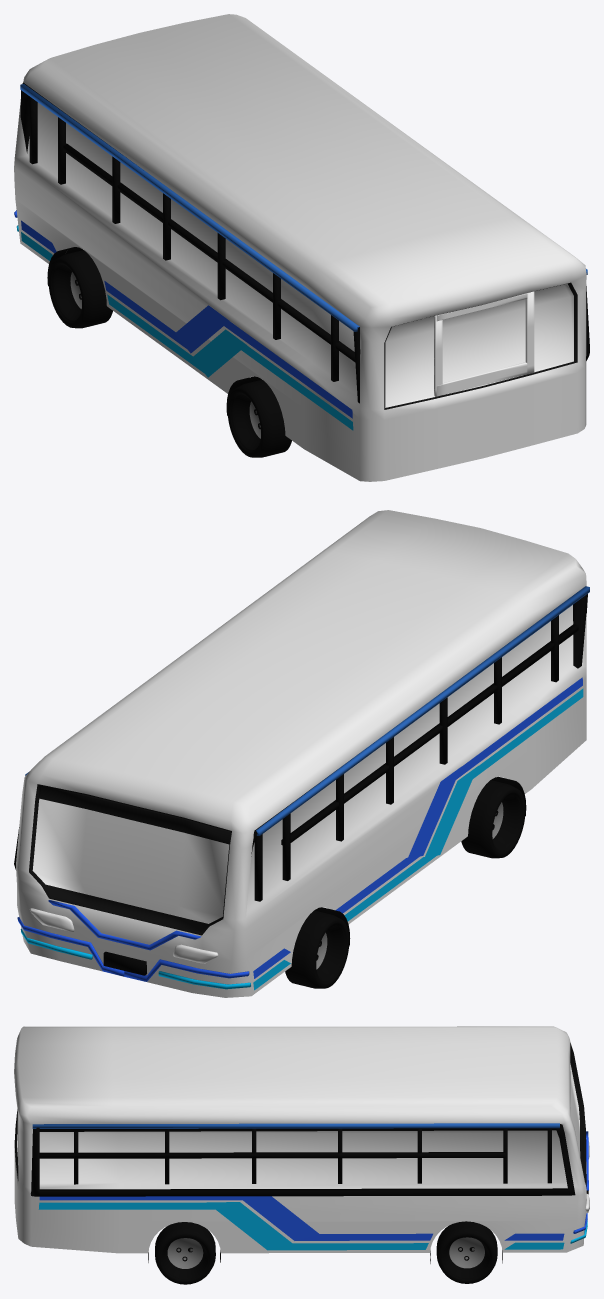
The model's file is tata1.fbx.
3 views of the same model, one above another, from view 1: azimuth 30°, elevation 25°; view 2: azimuth 150°, elevation 25°; view 3: azimuth 270°, elevation 25° (orthographic). The views are drawn at different scales.
Visible parts, largest first — view 1: Cube.002, Cylinder.004, Cylinder.008, Cube.034, Cube.011, Plane.005, Plane.001, Plane.002, Cube.027, Plane.006, Cube.003, Plane.004 (+3 smaller); view 2: Cube.002, Cylinder.004, Cylinder.008, Cube.034, Cube.011, Plane.005, Plane.001, Plane.002, Plane.006, Cube.033, Cube.003, Plane.004 (+4 smaller); view 3: Cube.002, Cube.013, Cylinder.012, Cylinder.016, Cube.020, Cube.035, Plane.014, Plane.013, Plane.009, Plane.012, Plane.010, Plane.008 (+2 smaller).
Boxes of the visible parts, x1=… form: Cube.002: x1=14, y1=14, x2=586, y2=481; Cylinder.004: x1=48, y1=250, x2=112, y2=328; Cylinder.008: x1=227, y1=379, x2=291, y2=457; Cube.034: x1=20, y1=84, x2=359, y2=331; Cube.011: x1=63, y1=143, x2=355, y2=361; Plane.005: x1=192, y1=329, x2=246, y2=377; Plane.001: x1=175, y1=305, x2=229, y2=353; Plane.002: x1=224, y1=321, x2=352, y2=418; Cube.027: x1=436, y1=362, x2=527, y2=396; Plane.006: x1=241, y1=345, x2=353, y2=430; Cube.003: x1=20, y1=82, x2=360, y2=403; Plane.004: x1=107, y1=294, x2=204, y2=373; Cube.002: x1=16, y1=510, x2=586, y2=997; Cylinder.004: x1=285, y1=910, x2=349, y2=988; Cylinder.008: x1=461, y1=780, x2=525, y2=858; Cube.034: x1=256, y1=586, x2=589, y2=835; Cube.011: x1=281, y1=624, x2=578, y2=845; Plane.005: x1=424, y1=766, x2=478, y2=857; Plane.001: x1=407, y1=766, x2=461, y2=858; Plane.002: x1=456, y1=677, x2=582, y2=779; Plane.006: x1=473, y1=688, x2=583, y2=778; Cube.033: x1=48, y1=900, x2=201, y2=950; Cube.003: x1=251, y1=594, x2=587, y2=856; Plane.004: x1=344, y1=855, x2=436, y2=921; Cube.002: x1=14, y1=1026, x2=586, y2=1253; Cube.013: x1=30, y1=1124, x2=575, y2=1196; Cylinder.012: x1=155, y1=1222, x2=215, y2=1284; Cylinder.016: x1=436, y1=1221, x2=497, y2=1283; Cube.020: x1=39, y1=1152, x2=505, y2=1158; Cube.035: x1=32, y1=1123, x2=559, y2=1128; Plane.014: x1=38, y1=1202, x2=238, y2=1209; Plane.013: x1=207, y1=1202, x2=292, y2=1250; Plane.009: x1=243, y1=1196, x2=318, y2=1240; Plane.012: x1=268, y1=1243, x2=428, y2=1250; Plane.010: x1=39, y1=1196, x2=255, y2=1200; Plane.008: x1=295, y1=1233, x2=432, y2=1240.
Size of the model in its own units: 1862 by 1497 by 4456.
